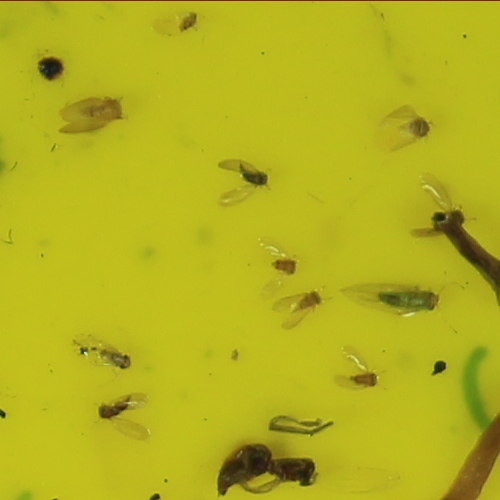Glycaspis: (376, 286, 444, 313)
Platyobria: (79, 97, 125, 119), (269, 257, 300, 276), (297, 289, 325, 309), (349, 370, 379, 386)
cicada: (100, 349, 133, 371)
psylla: (97, 393, 133, 418), (237, 163, 271, 187)
